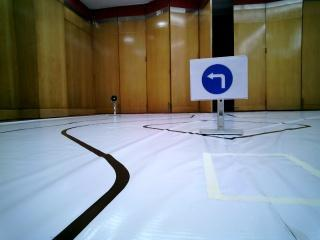left: (188, 58, 248, 98)
